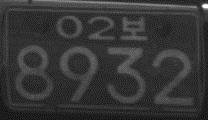0: (54, 14, 83, 39)
2: (152, 47, 195, 105), (86, 14, 116, 41)
3: (106, 45, 146, 105)
8: (14, 43, 53, 101)
9: (59, 45, 100, 103)
보: (119, 15, 149, 41)
